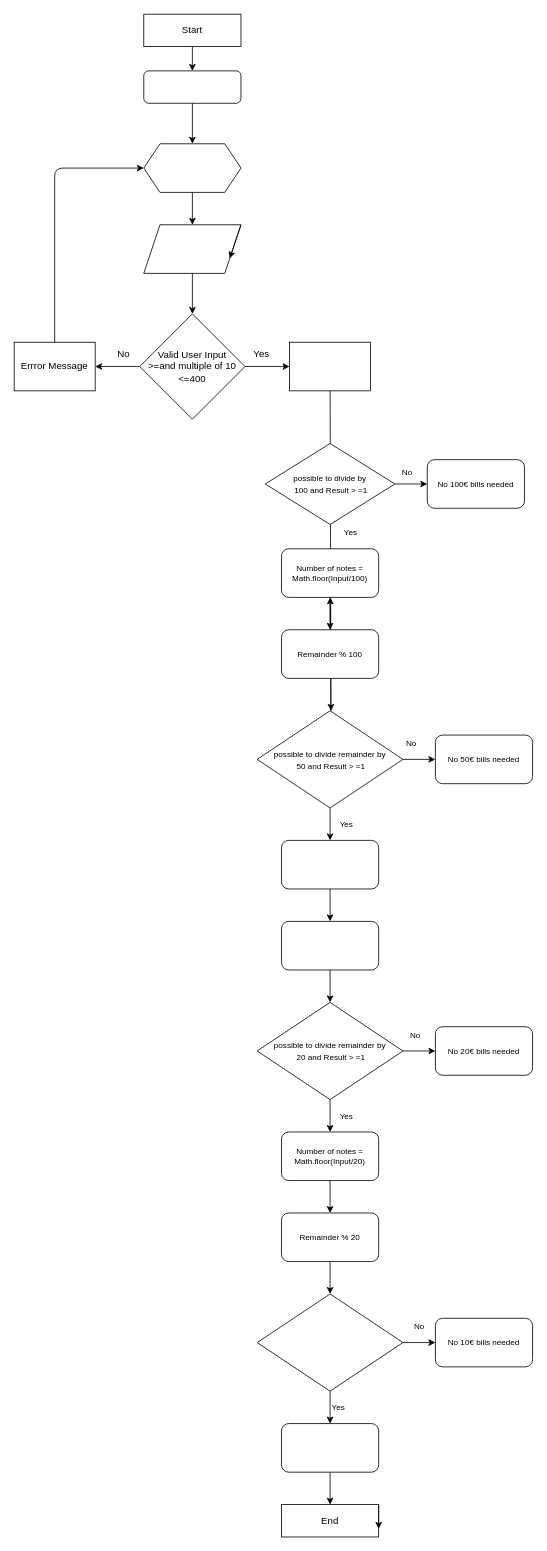
This 547x1551 diagram has some shape labels left out. Each missing label, with the box of its shape:
Analyze User Input: (289, 341, 371, 391)
Loop: (143, 143, 241, 192)
Number of notes = Math.floor(Input/10): (281, 1423, 379, 1472)
Number of notes = Math.floor(Input/50): (281, 840, 379, 889)
possible to divide remainder by 10 and Result > =1: (256, 1293, 403, 1391)
Promt: Define Amount of money: (143, 70, 241, 103)
Remainder % 50: (281, 921, 379, 970)
User Input: (143, 224, 241, 273)
